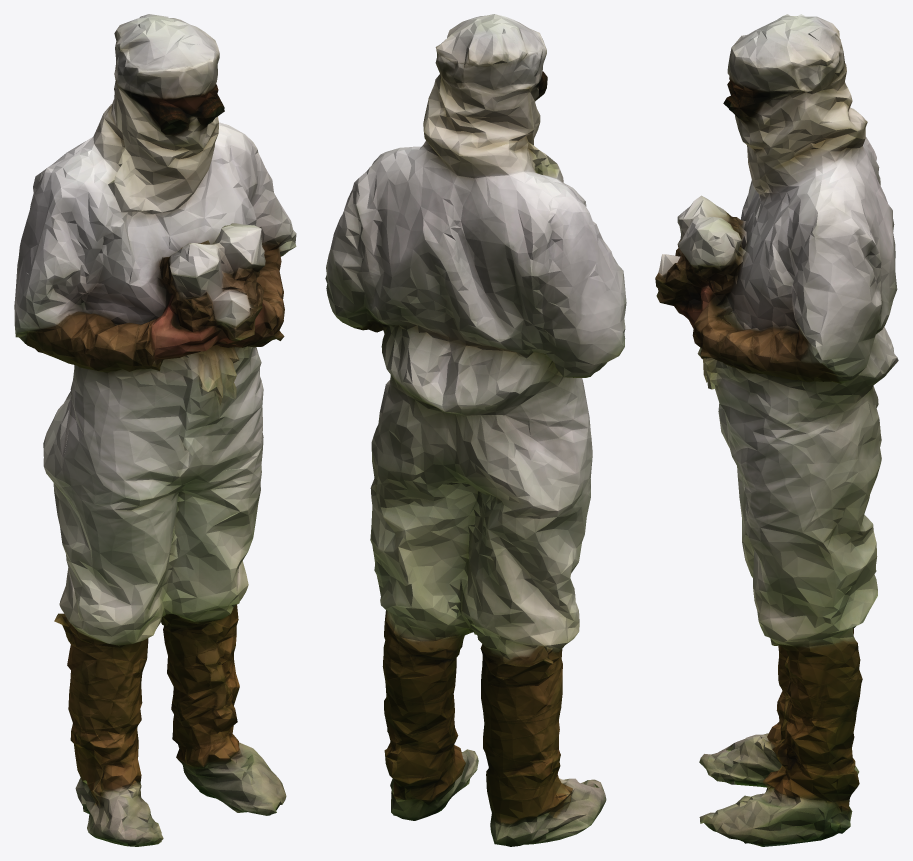
The picture shows the model from 3 angles, left to right: view 1: azimuth 30°, elevation 25°; view 2: azimuth 150°, elevation 25°; view 3: azimuth 270°, elevation 25°; orthographic projection. The views are drawn at different scales.
Bounding box in the file's own units: 2.33 × 6.17 × 1.72.
2 materials, 2 textured.
